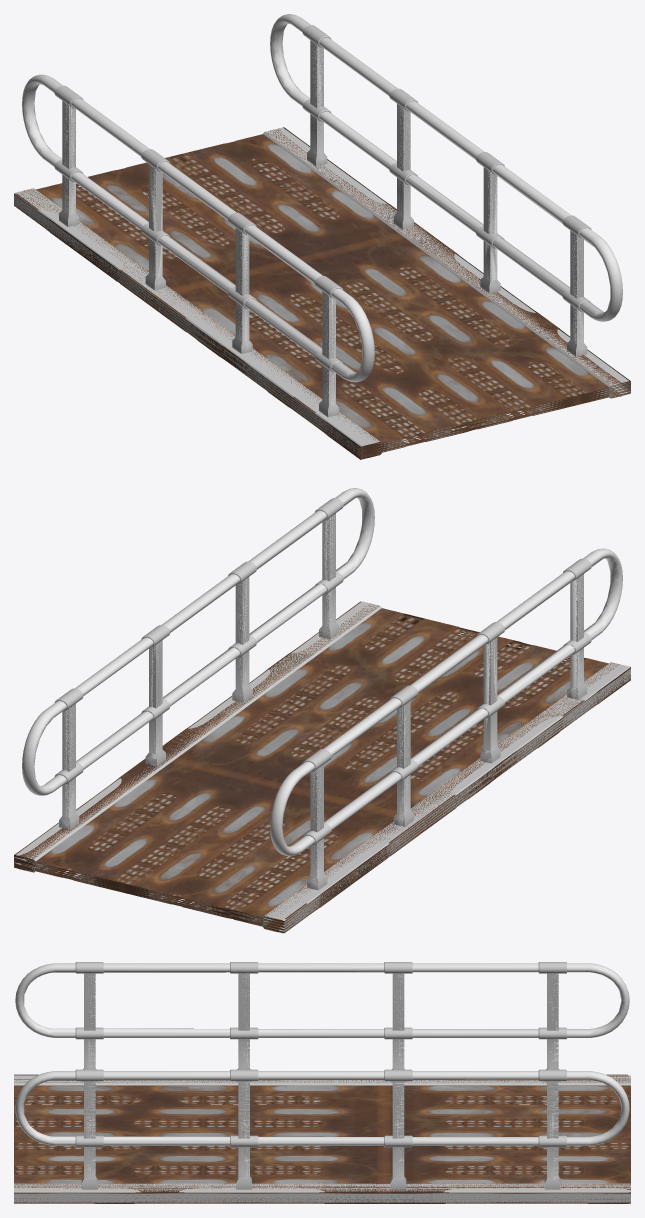
File: Catwalk.fbx
3 renders of one model, top to bottom at view 1: azimuth 30°, elevation 25°; view 2: azimuth 150°, elevation 25°; view 3: azimuth 270°, elevation 25°, orthographic. The views are drawn at different scales.
Parts seen in each view (by area): view 1: Catwalk_Straight_C, Catwalk_Straight; view 2: Catwalk_Straight_C, Catwalk_Straight; view 3: Catwalk_Straight, Catwalk_Straight_C.
Part boxes in pixels (bbox=[...]): Catwalk_Straight_C: bbox=[14, 22, 630, 459]; Catwalk_Straight: bbox=[14, 14, 630, 457]; Catwalk_Straight_C: bbox=[14, 496, 630, 933]; Catwalk_Straight: bbox=[14, 488, 630, 933]; Catwalk_Straight: bbox=[14, 962, 630, 1202]; Catwalk_Straight_C: bbox=[14, 972, 630, 1203].
Size of the model in its own units: 180 by 91.86 by 400.
